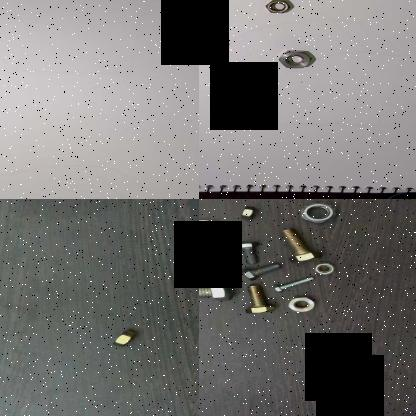Bolts: (278, 228, 321, 264), (243, 282, 275, 315), (199, 37, 232, 61), (240, 264, 282, 282), (199, 280, 235, 300), (235, 240, 260, 266), (199, 265, 230, 280)
NUTS: (276, 44, 318, 74), (298, 201, 338, 225), (106, 328, 144, 349), (261, 0, 300, 19), (284, 296, 314, 314), (199, 218, 223, 237), (235, 207, 260, 221), (311, 262, 335, 276)
